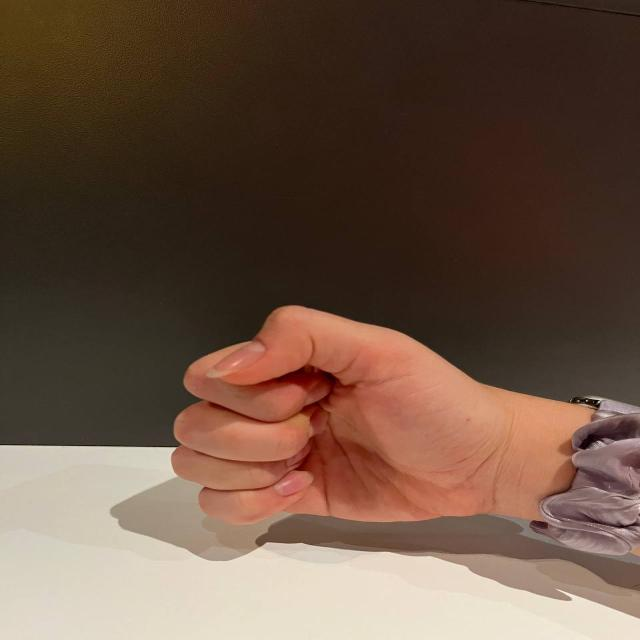a: (189, 300, 498, 557)
